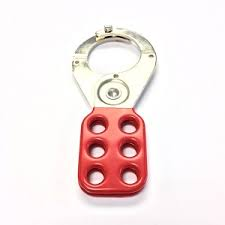hasp: (66, 23, 157, 202)
